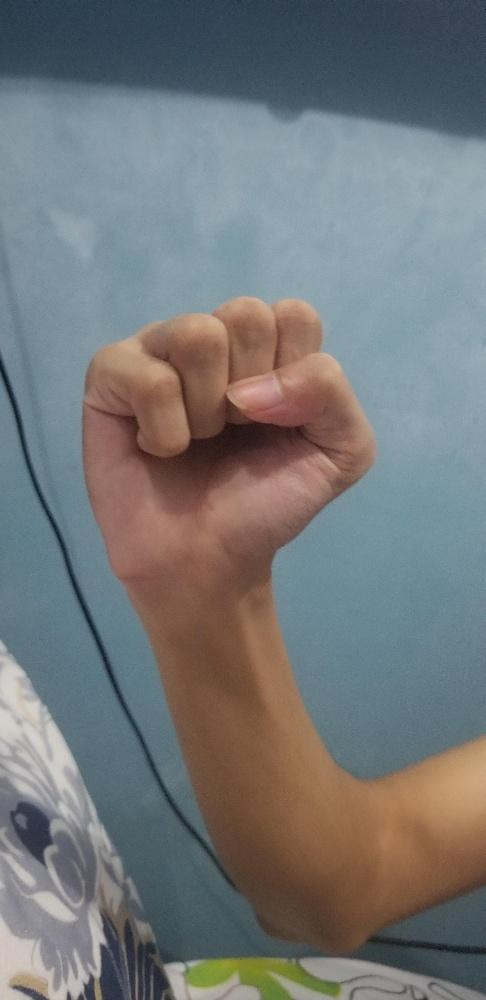s: (77, 293, 379, 593)
